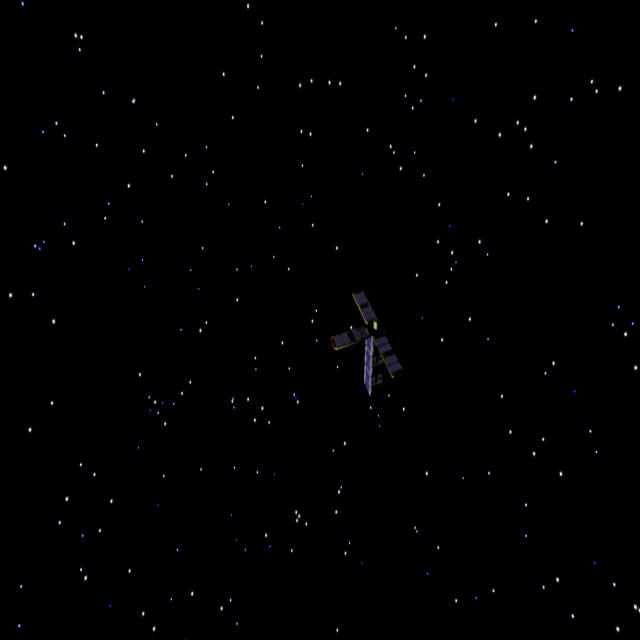satellite: (321, 288, 406, 407)
